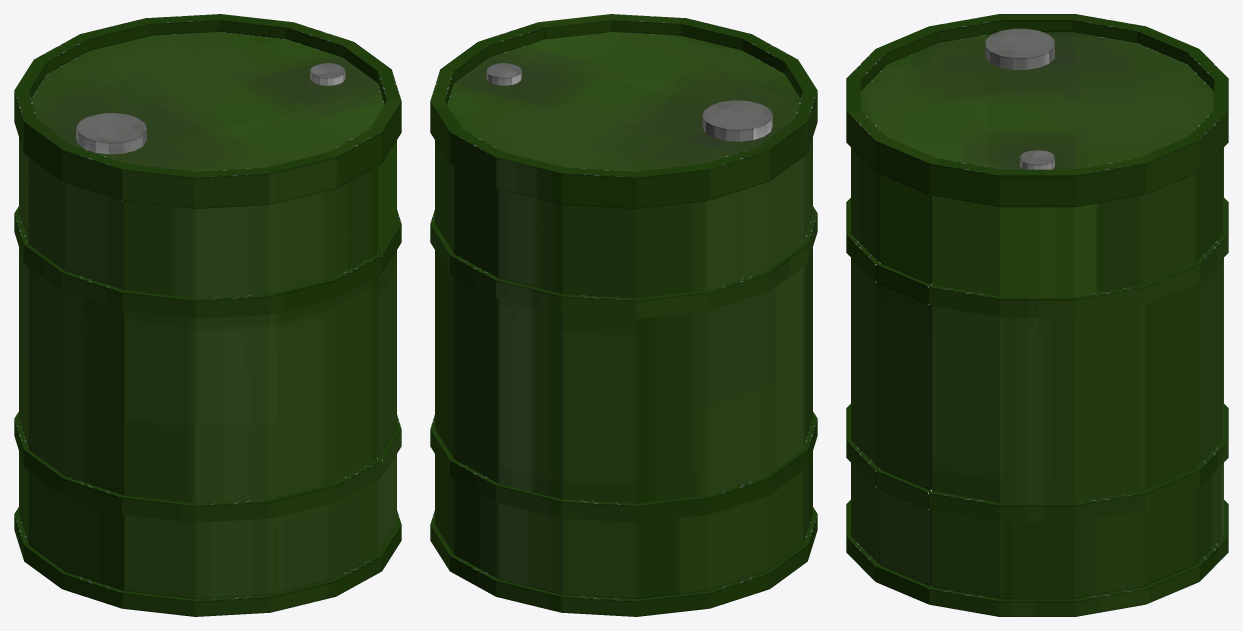
The model's file is OilDrum_2.fbx.
3 renders of one model, left to right at view 1: azimuth 30°, elevation 25°; view 2: azimuth 150°, elevation 25°; view 3: azimuth 270°, elevation 25°, orthographic.
Visible parts, largest first — view 1: cylinder_1, cylinder_3, cylinder_2, cylinder, cylinder_4, cylinder_5; view 2: cylinder_1, cylinder_3, cylinder_2, cylinder, cylinder_4, cylinder_5; view 3: cylinder_1, cylinder_3, cylinder_2, cylinder, cylinder_4, cylinder_5.
Boxes of the visible parts, x1,y1,x2,y2 form: cylinder_1: [14, 247, 401, 522]; cylinder_3: [14, 14, 401, 208]; cylinder_2: [14, 138, 401, 318]; cylinder: [14, 451, 401, 616]; cylinder_4: [76, 113, 146, 154]; cylinder_5: [310, 63, 345, 85]; cylinder_1: [430, 247, 817, 522]; cylinder_3: [430, 14, 817, 208]; cylinder_2: [430, 138, 817, 318]; cylinder: [430, 451, 817, 616]; cylinder_4: [702, 100, 772, 141]; cylinder_5: [486, 63, 521, 85]; cylinder_1: [846, 258, 1228, 522]; cylinder_3: [846, 14, 1228, 207]; cylinder_2: [846, 148, 1228, 317]; cylinder: [846, 463, 1228, 616]; cylinder_4: [985, 28, 1054, 69]; cylinder_5: [1020, 150, 1054, 169].
Size of the model in its own units: 138 by 175 by 138.
Materials: 1 (1 with a texture image).
